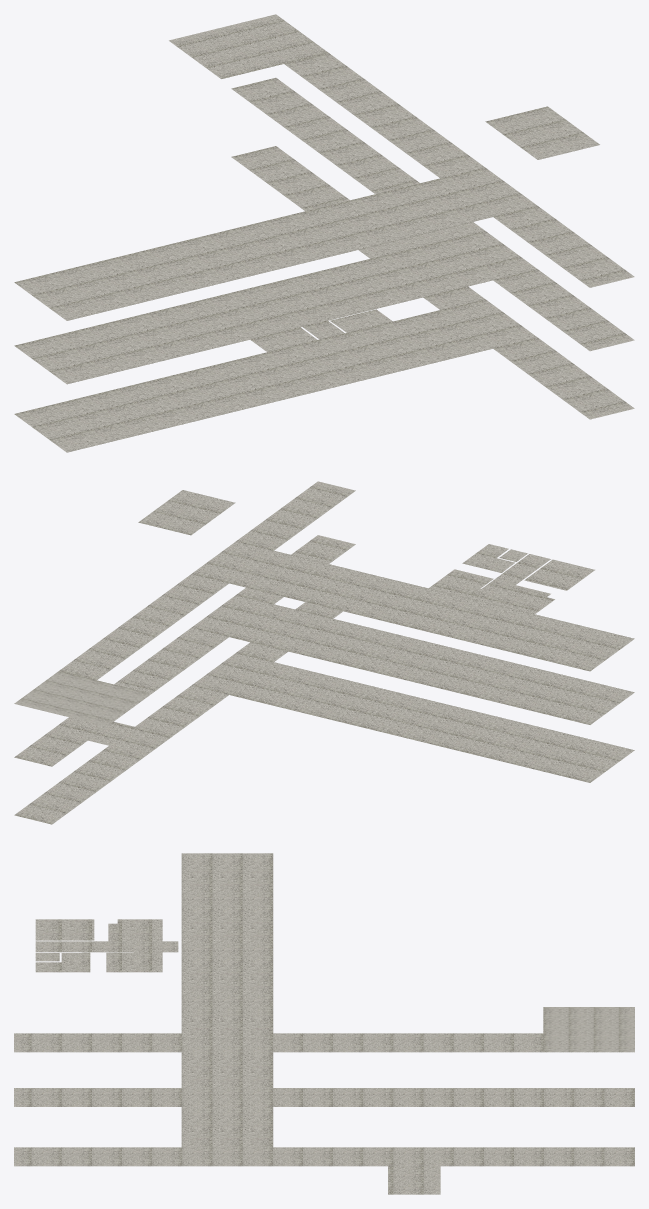
Rendered from TECHOS.fbx.
3 views of the same model, one above another, from view 1: azimuth 30°, elevation 25°; view 2: azimuth 150°, elevation 25°; view 3: azimuth 270°, elevation 25° (orthographic). The views are drawn at different scales.
Visible parts, largest first — view 1: TECHOS; view 2: TECHOS; view 3: TECHOS.
Boxes of the visible parts, left/top/right/bottom form: TECHOS: left=14, top=14, right=634, bottom=452; TECHOS: left=14, top=481, right=634, bottom=824; TECHOS: left=14, top=853, right=634, bottom=1194.
Bounding box in the file's own units: 4097 × 1289 × 4729.
1 material, 1 textured.
